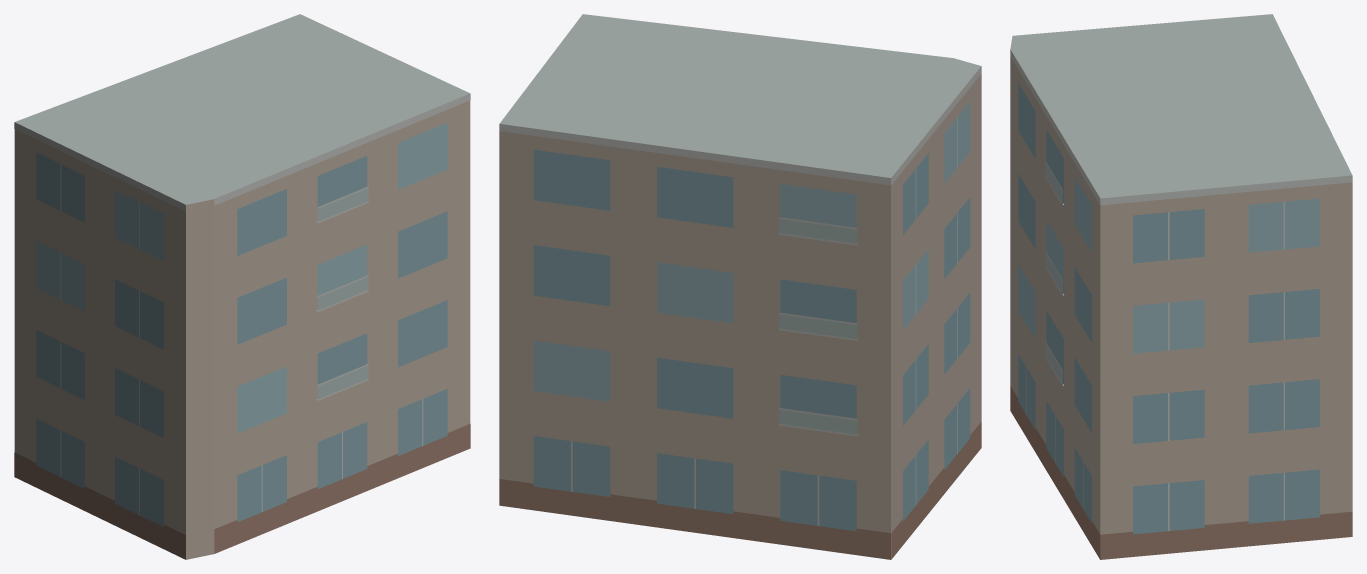
The model's file is survey-upis-32905768.glb.
3 renders of one model, left to right at view 1: azimuth 30°, elevation 25°; view 2: azimuth 150°, elevation 25°; view 3: azimuth 270°, elevation 25°, orthographic. The views are drawn at different scales.
Visible parts, largest first — view 1: survey-upis-32905768.tmp; view 2: survey-upis-32905768.tmp; view 3: survey-upis-32905768.tmp.
Part boxes in pixels (x1,y1,x2,y2): survey-upis-32905768.tmp: [14, 14, 470, 559]; survey-upis-32905768.tmp: [499, 14, 981, 559]; survey-upis-32905768.tmp: [1010, 14, 1352, 559].
Size of the model in its own units: 14.02 by 12.8 by 11.
